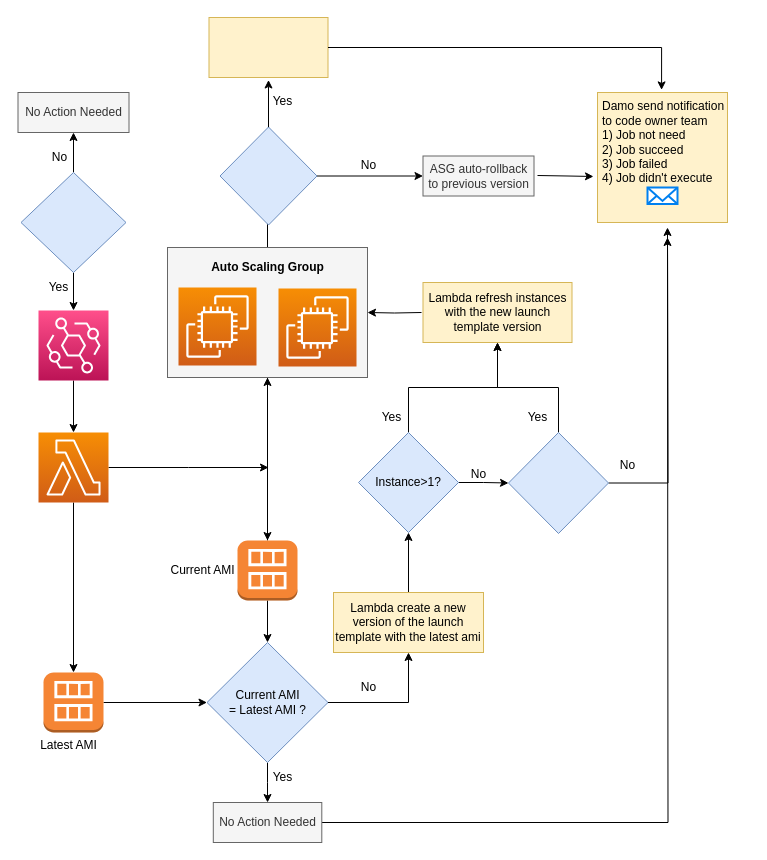
Some shapes in this 767 by 860 pixel diagram are drawn without their labels. The centre of each missing label's shape, as x and y in pixels:
Allow-outage =True?: the point at 558,483
ASG instances AMI has updated: the point at 268,47
Auto-refresh =True?: the point at 73,222
Job succeeded?: the point at 268,175
